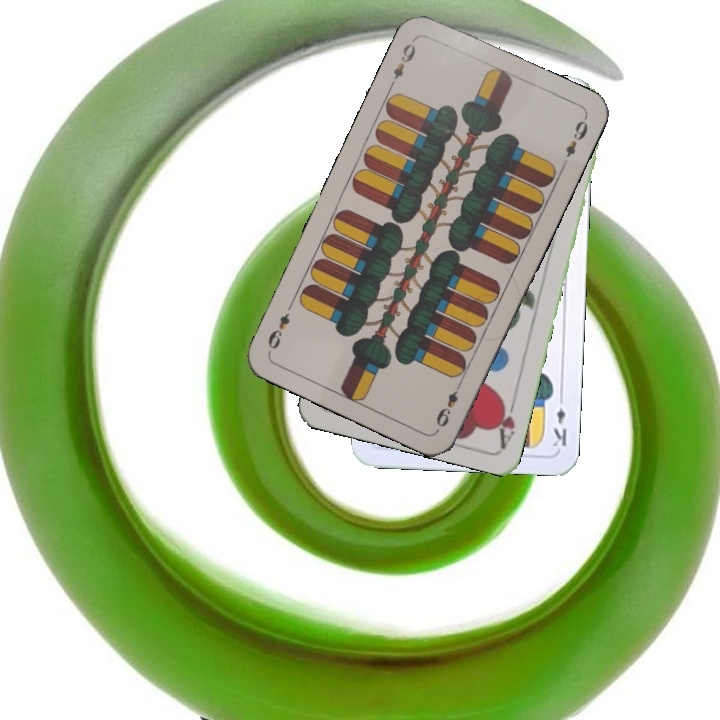E9: (386, 35, 419, 90), (432, 377, 465, 430)
EK: (549, 390, 570, 449)
HA: (491, 391, 519, 450)
